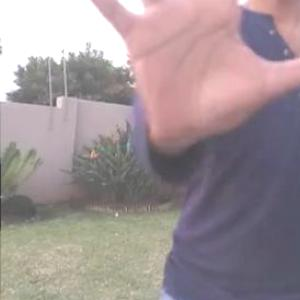follow_hand: (61, 0, 299, 159)
